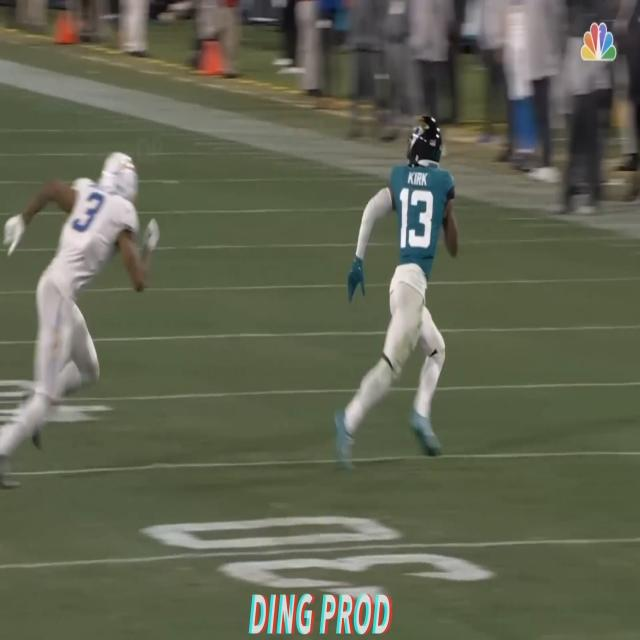players: (336, 102, 463, 476), (5, 177, 122, 490)
